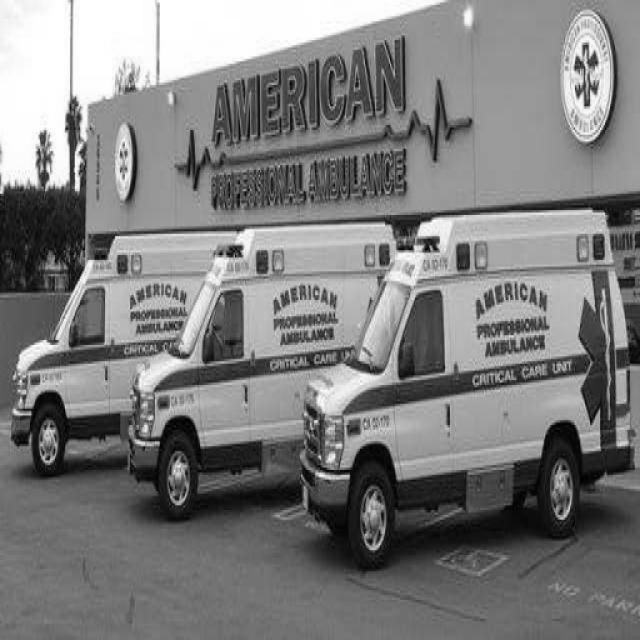Ambulance: (299, 209, 640, 573), (128, 217, 396, 520), (11, 230, 238, 477)
